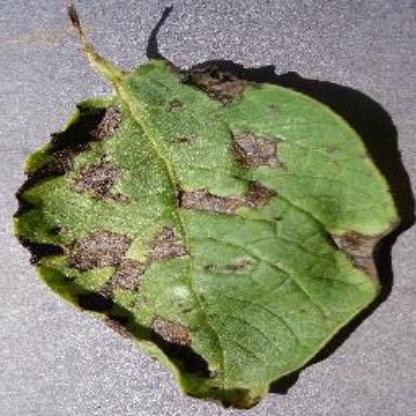Early-Blight: (16, 28, 404, 406)
